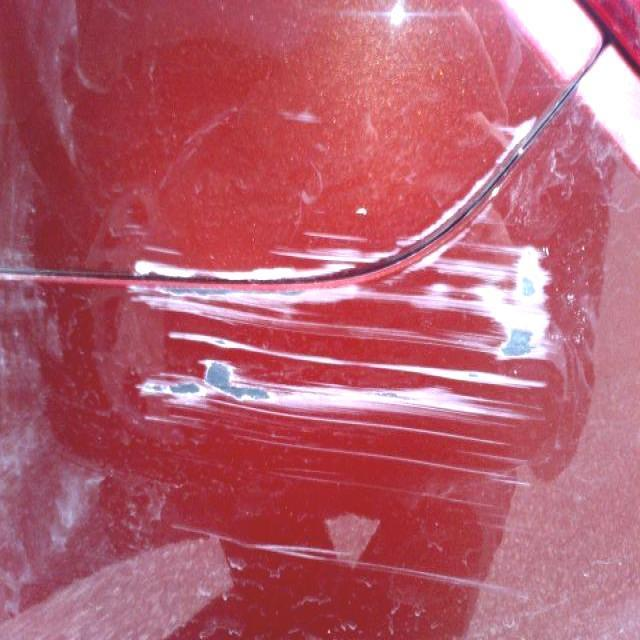minor: (186, 407, 530, 487), (219, 537, 347, 565)
moderate: (121, 237, 556, 421), (139, 112, 542, 285)
